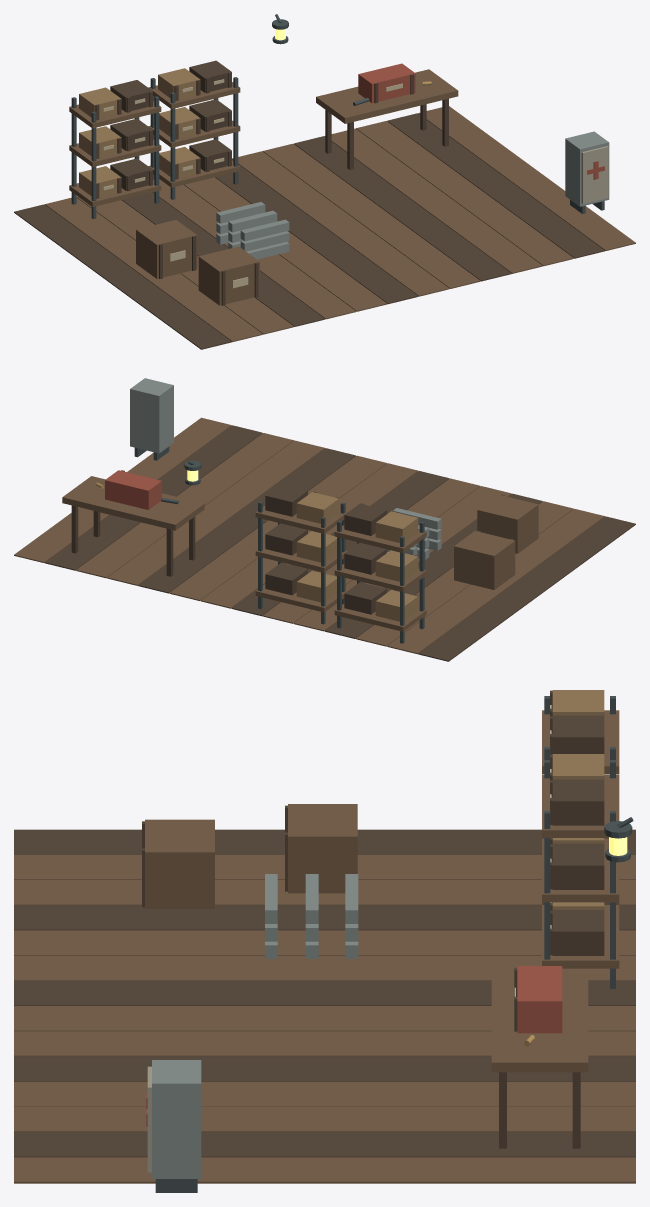
The model's file is warehouse.glb.
The picture shows the model from 3 angles, top to bottom: view 1: azimuth 30°, elevation 25°; view 2: azimuth 150°, elevation 25°; view 3: azimuth 270°, elevation 25°; orthographic projection. The views are drawn at different scales.
Parts seen in each view (by area): view 1: Floor, Furniture, ToolsPresent; view 2: Floor, Furniture, ToolsPresent; view 3: Floor, Furniture, ToolsPresent.
Part boxes in pixels (x1,y1,x2,y2): Floor: (14, 106, 635, 349); Furniture: (69, 14, 609, 305); ToolsPresent: (358, 63, 415, 103); Floor: (14, 417, 635, 661); Furniture: (62, 378, 538, 643); ToolsPresent: (105, 470, 161, 509); Floor: (14, 829, 635, 1183); Furniture: (142, 690, 633, 1192); ToolsPresent: (514, 966, 562, 1033).
Size of the model in its own units: 8.02 by 2.32 by 5.79.
